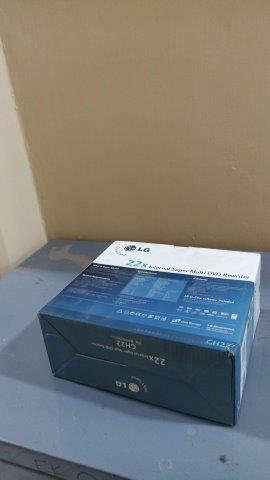kardus: (39, 241, 260, 425)
